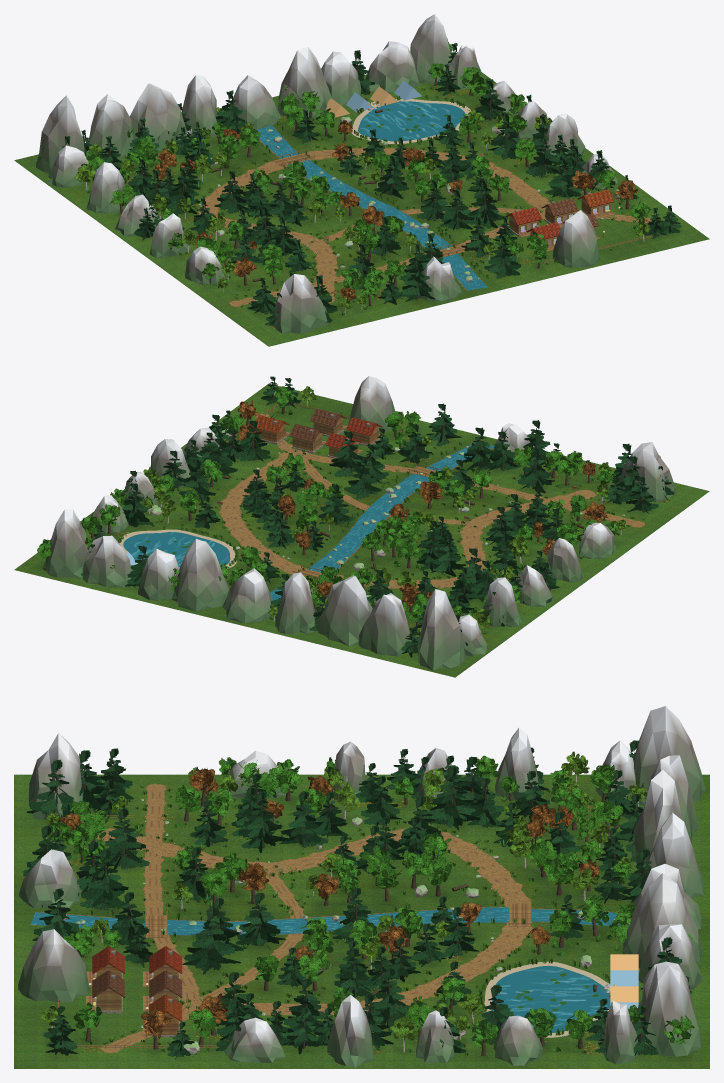
Rendered from forest-trail.glb.
3 renders of one model, top to bottom at view 1: azimuth 30°, elevation 25°; view 2: azimuth 150°, elevation 25°; view 3: azimuth 270°, elevation 25°, orthographic. The views are drawn at different scales.
Parts seen in each view (by area): view 1: Scenery_ground, Scenery_rock, Scenery_pine, Scenery_leaf, Scenery_water, Scenery_leafBirch, Scenery_patch, Scenery_leafAutumn, Scenery_misc, Scenery_blade, Scenery_path, Scenery_wood (+4 smaller); view 2: Scenery_rock, Scenery_ground, Scenery_pine, Scenery_leaf, Scenery_water, Scenery_patch, Scenery_leafBirch, Scenery_leafAutumn, Scenery_path, Scenery_wood, Scenery_blade, Scenery_roof (+4 smaller); view 3: Scenery_ground, Scenery_pine, Scenery_rock, Scenery_leaf, Scenery_patch, Scenery_water, Scenery_leafBirch, Scenery_leafAutumn, Scenery_path, Scenery_blade, Scenery_wood, Scenery_roof (+4 smaller).
Part boxes in pixels (x1,y1,x2,y2): Scenery_ground: (14,55,709,346); Scenery_rock: (36,14,620,333); Scenery_pine: (62,43,681,329); Scenery_leaf: (85,38,650,298); Scenery_water: (255,101,487,290); Scenery_leafBirch: (75,107,650,309); Scenery_patch: (197,147,651,306); Scenery_leafAutumn: (152,120,637,300); Scenery_misc: (325,80,620,247); Scenery_blade: (120,87,630,304); Scenery_path: (198,126,637,304); Scenery_wood: (267,149,662,322); Scenery_rock: (42,376,675,670); Scenery_ground: (14,383,709,677); Scenery_pine: (81,376,674,657); Scenery_leaf: (37,386,619,625); Scenery_water: (123,442,494,616); Scenery_patch: (219,413,645,588); Scenery_leafBirch: (141,386,627,634); Scenery_leafAutumn: (237,400,608,607); Scenery_path: (220,417,637,615); Scenery_wood: (217,403,664,580); Scenery_blade: (117,411,634,627); Scenery_roof: (256,408,382,448); Scenery_ground: (14,774,709,1068); Scenery_pine: (22,740,691,1059); Scenery_rock: (18,706,705,1067); Scenery_leaf: (50,755,694,1051); Scenery_patch: (95,783,532,1053); Scenery_water: (30,907,620,1032); Scenery_leafBirch: (39,751,683,1040); Scenery_leafAutumn: (59,768,599,1038); Scenery_path: (32,790,617,1049); Scenery_blade: (40,789,629,1055); Scenery_wood: (58,815,531,1048); Scenery_roof: (92,946,182,1021).
Bounding box in the file's own units: 220 × 32.4 × 220.
21 materials, 19 textured.
